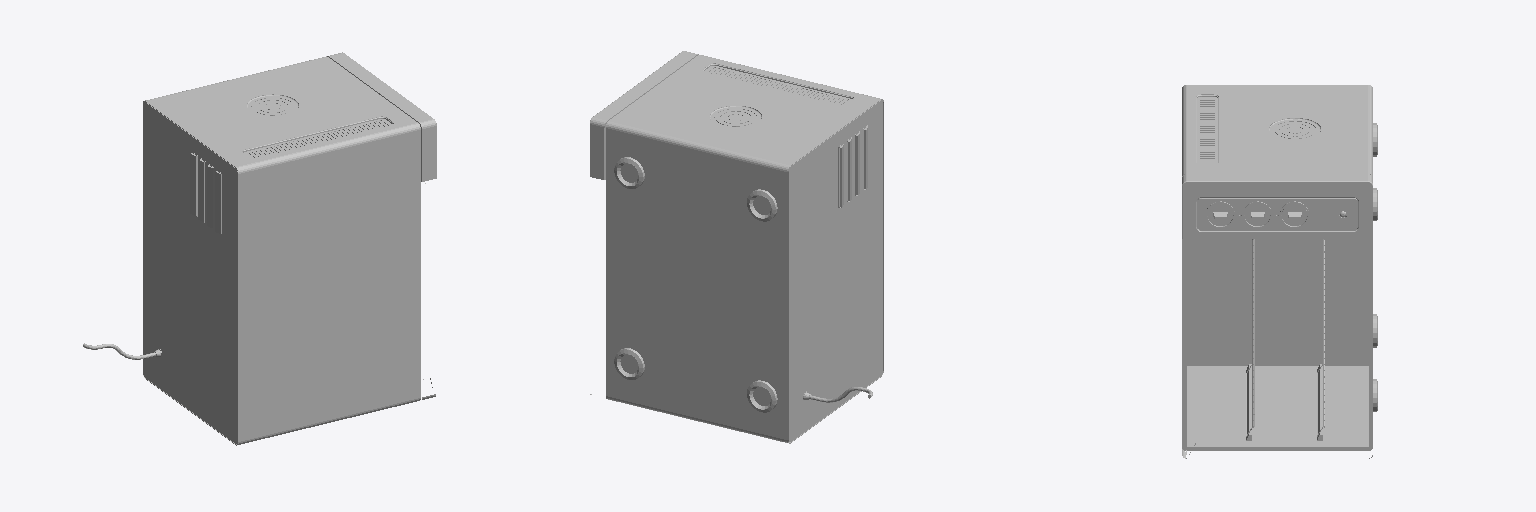
File: none_motion.obj
3 views of the same model, side by side, from view 1: azimuth 30°, elevation 25°; view 2: azimuth 150°, elevation 25°; view 3: azimuth 270°, elevation 25° (orthographic).
Visible parts, largest first — view 1: rootd_$$001_g6__Geometry_0, rootd_$$001_g19__Geometry_0; view 2: rootd_$$001_g6__Geometry_0, rootd_$$001_g19__Geometry_0, rootd_$$001_g14__Geometry_0, rootd_$$001_g15__Geometry_0, rootd_$$001_g12__Geometry_0, rootd_$$001_g13__Geometry_0; view 3: rootd_$$001_g6__Geometry_0, rootd_$$001_g19__Geometry_0, rootd_$$001_g27__Geometry_0, rootd_$$001_g3__Geometry_0, rootd_$$001_g4__Geometry_0, rootd_$$001_g2__Geometry_0.
Boxes of the visible parts, x1=… form: rootd_$$001_g6__Geometry_0: x1=143, y1=56, x2=420, y2=445; rootd_$$001_g19__Geometry_0: x1=327, y1=52, x2=436, y2=181; rootd_$$001_g6__Geometry_0: x1=606, y1=55, x2=883, y2=443; rootd_$$001_g19__Geometry_0: x1=590, y1=51, x2=698, y2=179; rootd_$$001_g14__Geometry_0: x1=747, y1=189, x2=777, y2=221; rootd_$$001_g15__Geometry_0: x1=747, y1=380, x2=777, y2=412; rootd_$$001_g12__Geometry_0: x1=614, y1=348, x2=644, y2=379; rootd_$$001_g13__Geometry_0: x1=614, y1=157, x2=644, y2=188; rootd_$$001_g6__Geometry_0: x1=1182, y1=85, x2=1372, y2=450; rootd_$$001_g19__Geometry_0: x1=1182, y1=174, x2=1372, y2=238; rootd_$$001_g27__Geometry_0: x1=1202, y1=199, x2=1357, y2=230; rootd_$$001_g3__Geometry_0: x1=1280, y1=201, x2=1308, y2=228; rootd_$$001_g4__Geometry_0: x1=1243, y1=201, x2=1271, y2=228; rootd_$$001_g2__Geometry_0: x1=1206, y1=201, x2=1234, y2=228.
Size of the model in its own units: 0.9878 by 0.9482 by 0.6074.